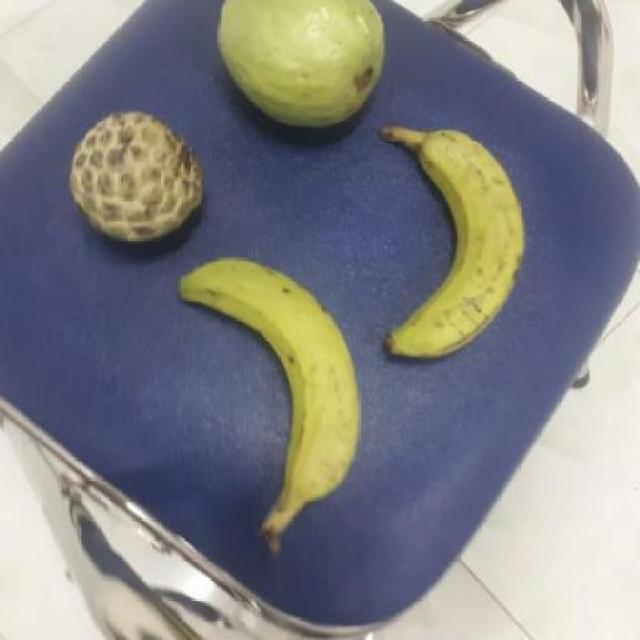banana: (165, 258, 357, 510), (376, 131, 527, 354)
guava: (212, 0, 387, 132)
sugar apple: (61, 111, 201, 246)
